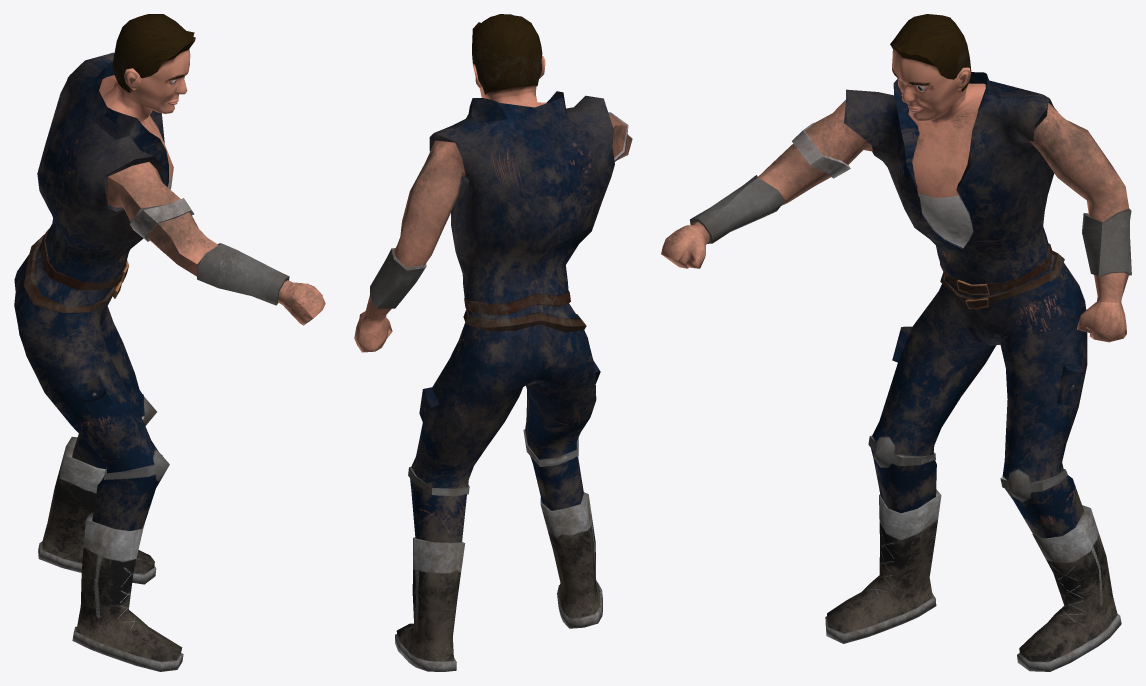
Rendered from Anim_interruptor_jugador.0027.obj.
The picture shows the model from 3 angles, left to right: view 1: azimuth 30°, elevation 25°; view 2: azimuth 150°, elevation 25°; view 3: azimuth 270°, elevation 25°; orthographic projection. The views are drawn at different scales.
Parts seen in each view (by area): view 1: polySurface1; view 2: polySurface1; view 3: polySurface1.
Boxes of the visible parts, box(x1,y1,x2,y2) form: polySurface1: box(14, 14, 325, 671); polySurface1: box(354, 14, 632, 671); polySurface1: box(661, 14, 1131, 671).
Bounding box in the file's own units: 2.74 × 9.18 × 6.19.
